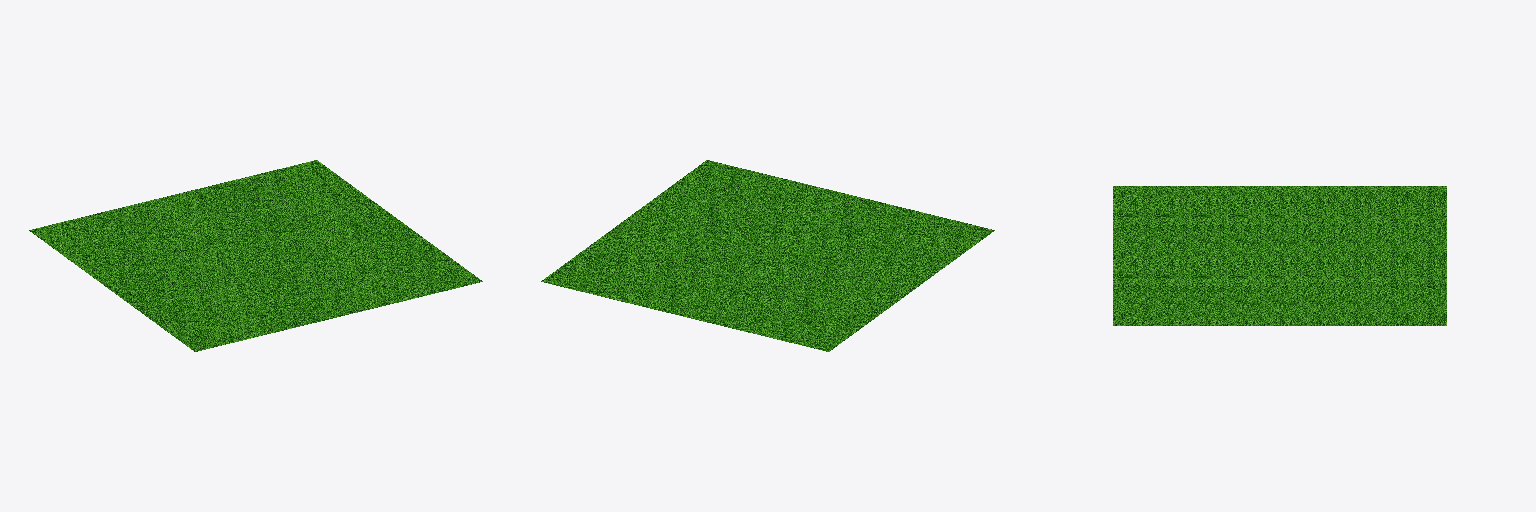
The picture shows the model from 3 angles: view 1: azimuth 30°, elevation 25°; view 2: azimuth 150°, elevation 25°; view 3: azimuth 270°, elevation 25°; orthographic projection.
Parts seen in each view (by area): view 1: Plane001; view 2: Plane001; view 3: Plane001.
Part boxes in pixels (bbox=[...]): Plane001: bbox=[29, 160, 482, 351]; Plane001: bbox=[541, 160, 994, 351]; Plane001: bbox=[1113, 186, 1446, 325].
Size of the model in its own units: 2953 by 0 by 2953.
1 materials, 1 textured.